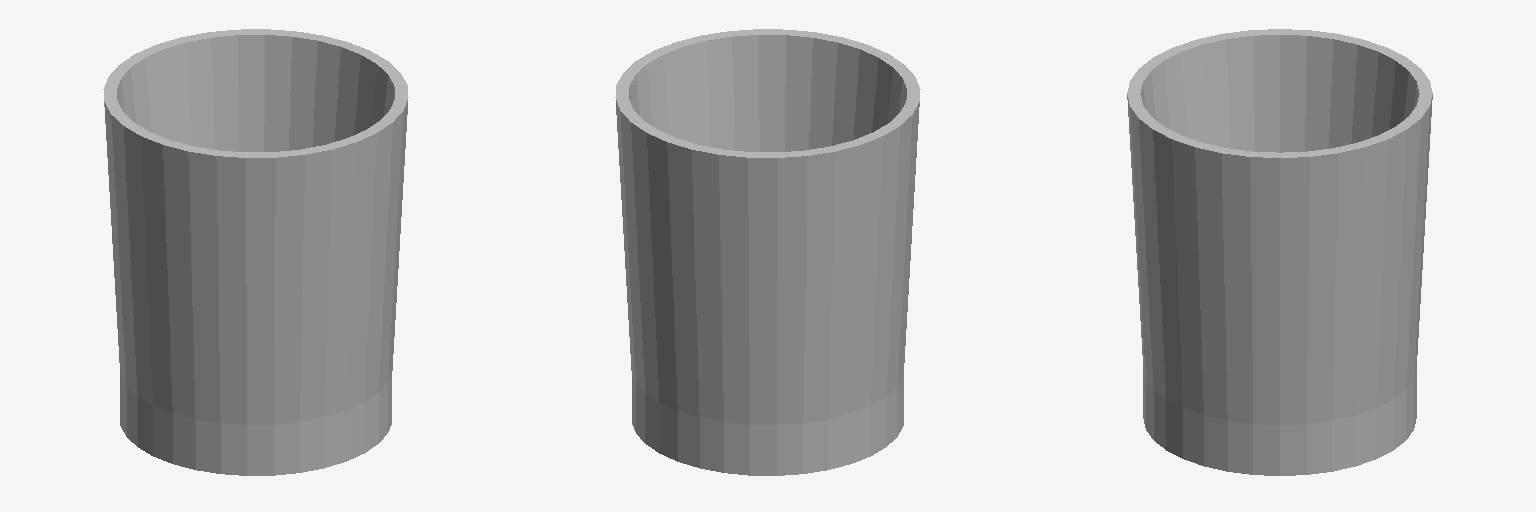
The model's file is glas.obj.
3 renders of one model, left to right at view 1: azimuth 30°, elevation 25°; view 2: azimuth 150°, elevation 25°; view 3: azimuth 270°, elevation 25°, orthographic.
Visible parts, largest first — view 1: Cylinder; view 2: Cylinder; view 3: Cylinder.
Boxes of the visible parts, x1=… form: Cylinder: x1=103, y1=29, x2=408, y2=475; Cylinder: x1=615, y1=29, x2=920, y2=475; Cylinder: x1=1127, y1=29, x2=1432, y2=475.
Size of the model in its own units: 2.24 by 2.62 by 2.24.